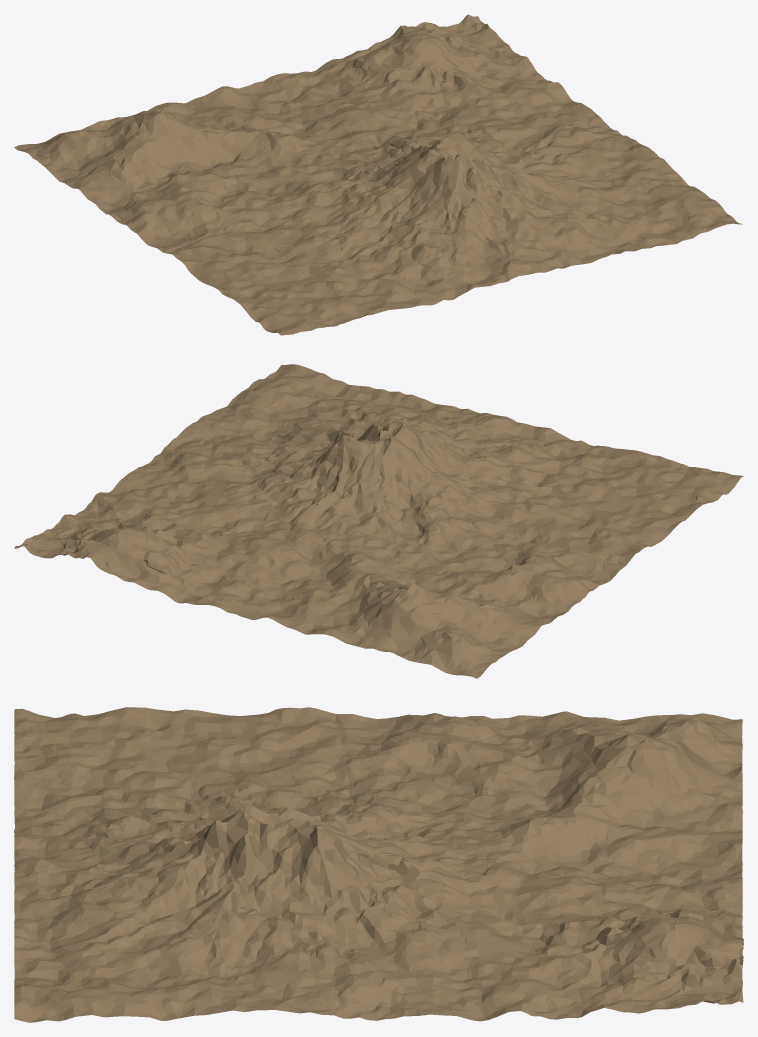
Rendered from SmallGround02.fbx.
3 renders of one model, top to bottom at view 1: azimuth 30°, elevation 25°; view 2: azimuth 150°, elevation 25°; view 3: azimuth 270°, elevation 25°, orthographic. The views are drawn at different scales.
Visible parts, largest first — view 1: SmallGround02; view 2: SmallGround02; view 3: SmallGround02.
Boxes of the visible parts, x1,y1,x2,y2 form: SmallGround02: (14,14,742,335); SmallGround02: (14,364,743,678); SmallGround02: (14,707,743,1022).
Size of the model in its own units: 210 by 27.47 by 211.
